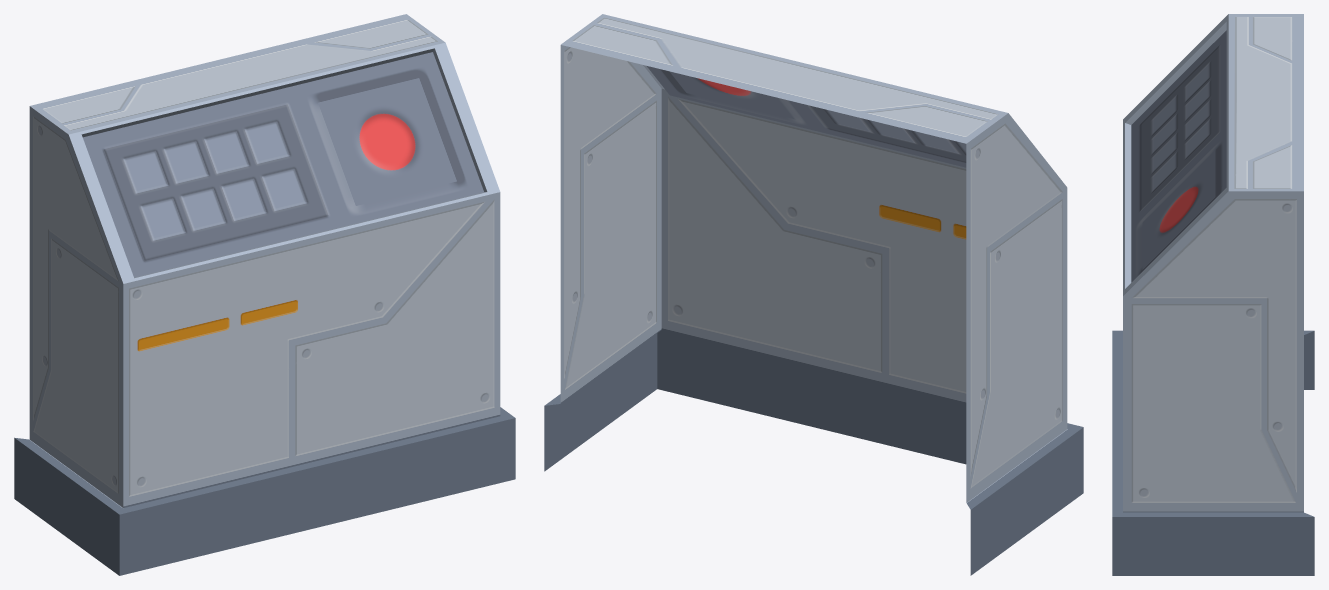
File: Envi1.dae
The picture shows the model from 3 angles, left to right: view 1: azimuth 30°, elevation 25°; view 2: azimuth 150°, elevation 25°; view 3: azimuth 270°, elevation 25°; orthographic projection. The views are drawn at different scales.
Parts seen in each view (by area): view 1: Cube.010; view 2: Cube.010; view 3: Cube.010.
Boxes of the visible parts, x1,y1,x2,y2 form: Cube.010: (14,14,515,575); Cube.010: (544,14,1083,575); Cube.010: (1112,14,1314,575).
Size of the model in its own units: 0.9374 by 0.4308 by 0.8931.
